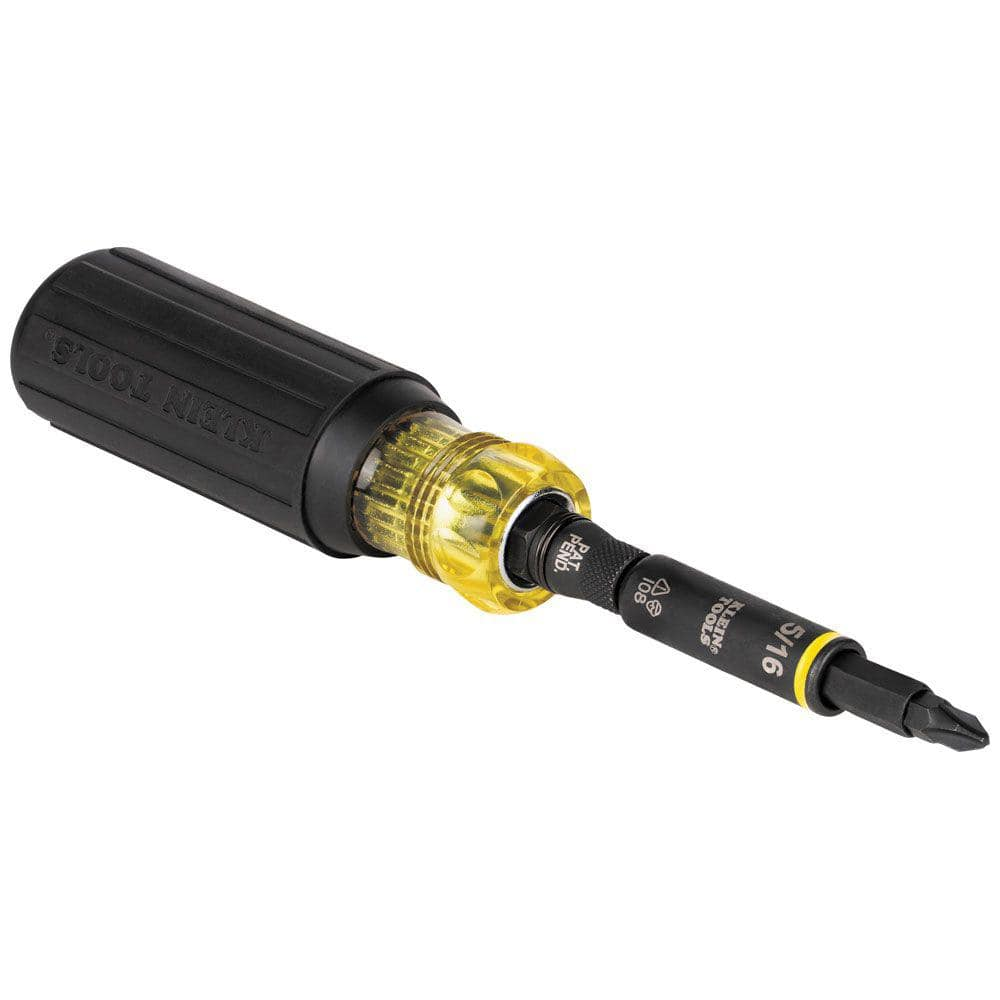screwdriver: (8, 236, 993, 754)
